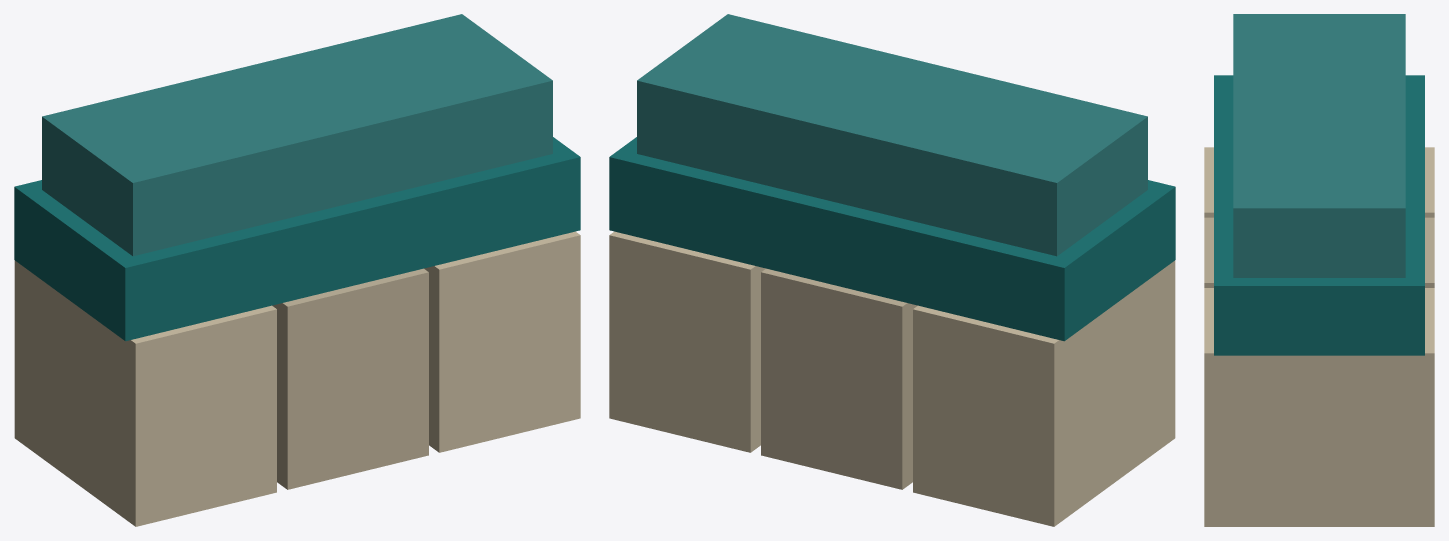
File: barrierB.glb
3 renders of one model, left to right at view 1: azimuth 30°, elevation 25°; view 2: azimuth 150°, elevation 25°; view 3: azimuth 270°, elevation 25°, orthographic. The views are drawn at different scales.
Parts seen in each view (by area): view 1: cappadocia-barrierB; view 2: cappadocia-barrierB; view 3: cappadocia-barrierB.
Part boxes in pixels (<box>): cappadocia-barrierB: <box>14,14,580,526</box>; cappadocia-barrierB: <box>609,14,1175,526</box>; cappadocia-barrierB: <box>1204,14,1434,526</box>.
Bounding box in the file's own units: 0.26 × 0.18 × 0.12.
